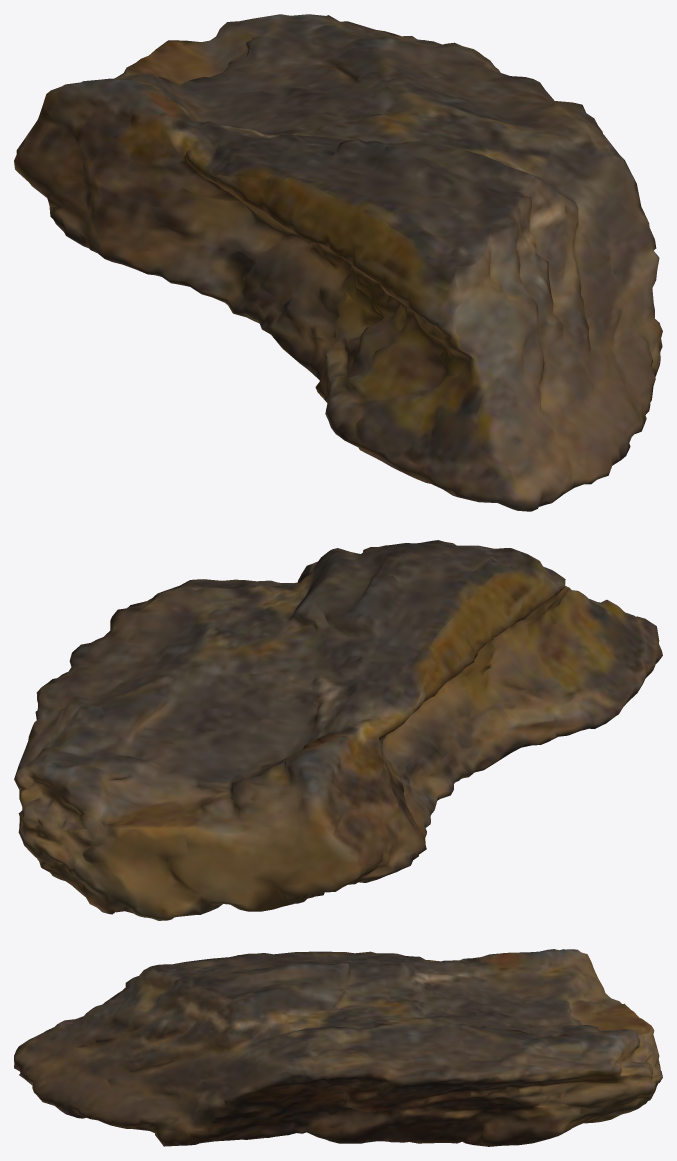
File: rock-09.glb
3 views of the same model, one above another, from view 1: azimuth 30°, elevation 25°; view 2: azimuth 150°, elevation 25°; view 3: azimuth 270°, elevation 25° (orthographic). The views are drawn at different scales.
Parts seen in each view (by area): view 1: rock_09_LOD0; view 2: rock_09_LOD0; view 3: rock_09_LOD0.
Boxes of the visible parts, x1,y1,x2,y2 form: rock_09_LOD0: (14, 14, 662, 511); rock_09_LOD0: (14, 540, 662, 920); rock_09_LOD0: (14, 949, 662, 1146).
Bounding box in the file's own units: 0.074 × 0.0329 × 0.1446.
Materials: 1 (1 with a texture image).
